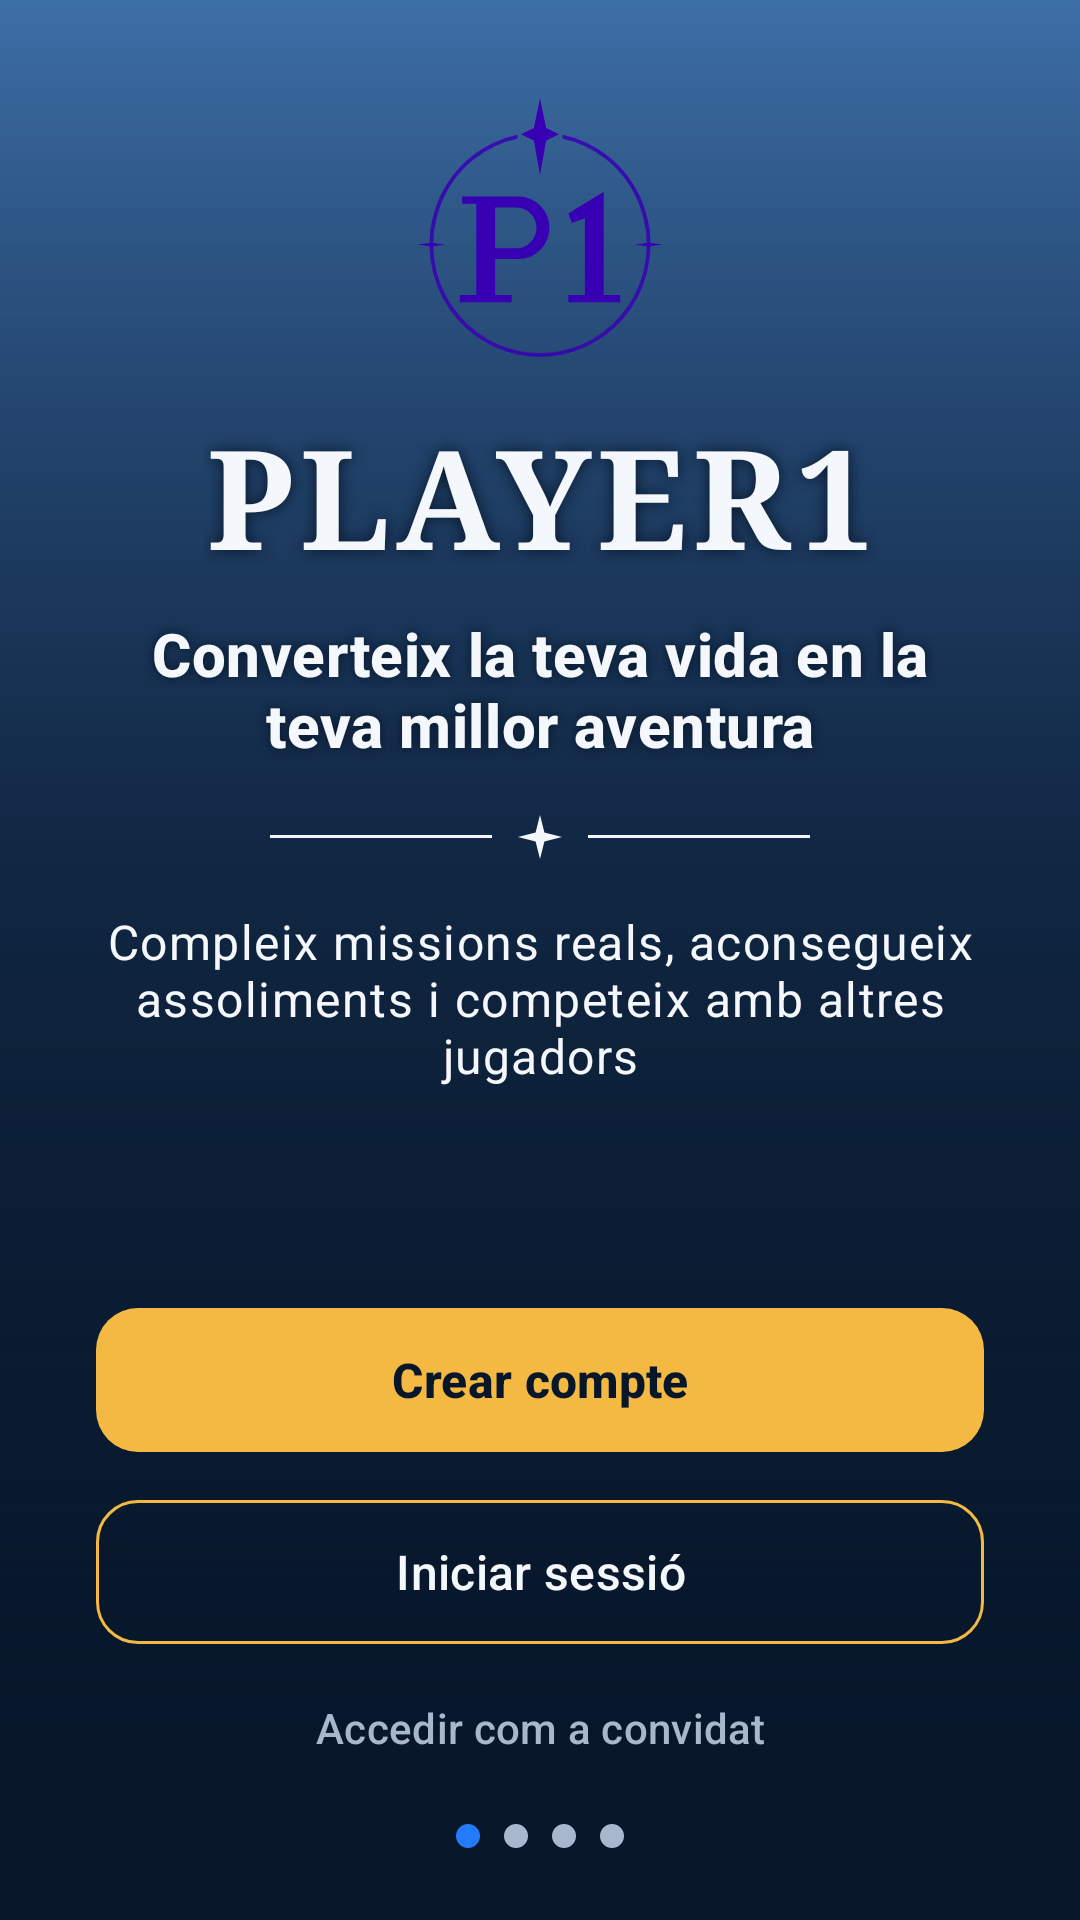

Screen size 1080px x 1920px. Icon name, then its center in pixels as [x,y]:
dot: [468,1836], [516,1836], [564,1836], [612,1836]
sparkle: [540,837]
